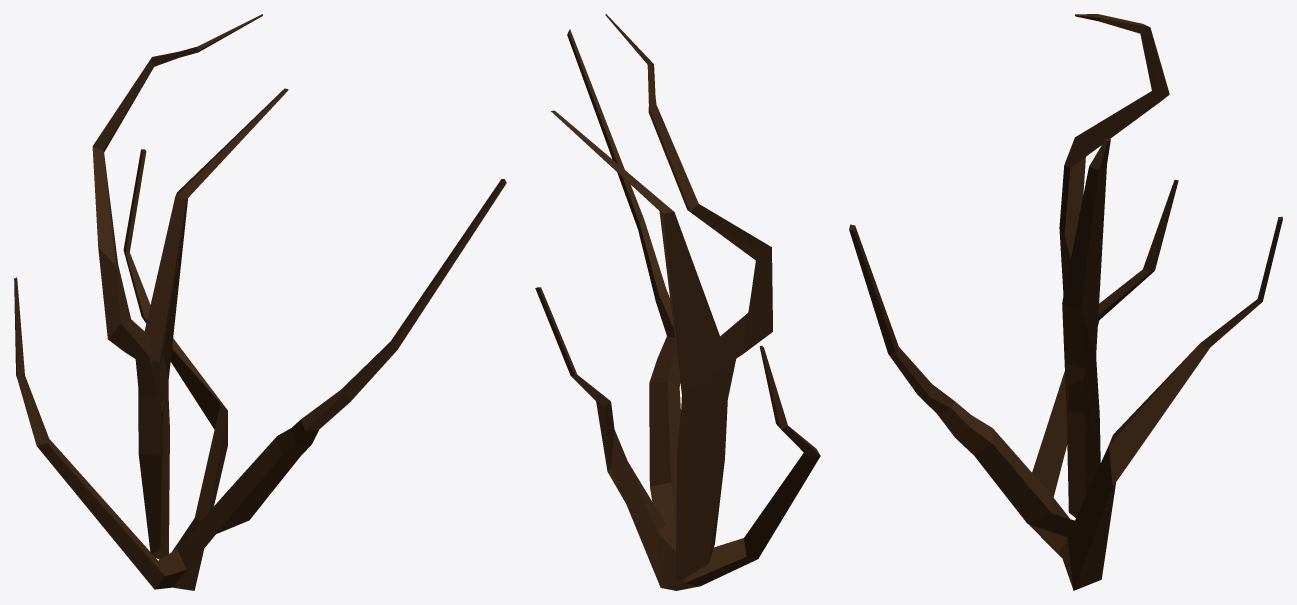
3 renders of one model, left to right at view 1: azimuth 30°, elevation 25°; view 2: azimuth 150°, elevation 25°; view 3: azimuth 270°, elevation 25°, orthographic. The views are drawn at different scales.
Visible parts, largest first — view 1: root_1; view 2: root_1; view 3: root_1.
Boxes of the visible parts, left/top/right/bottom form: root_1: left=14, top=14, right=506, bottom=590; root_1: left=535, top=14, right=820, bottom=590; root_1: left=849, top=14, right=1282, bottom=590.
Bounding box in the file's own units: 102 × 152 × 97.21.
